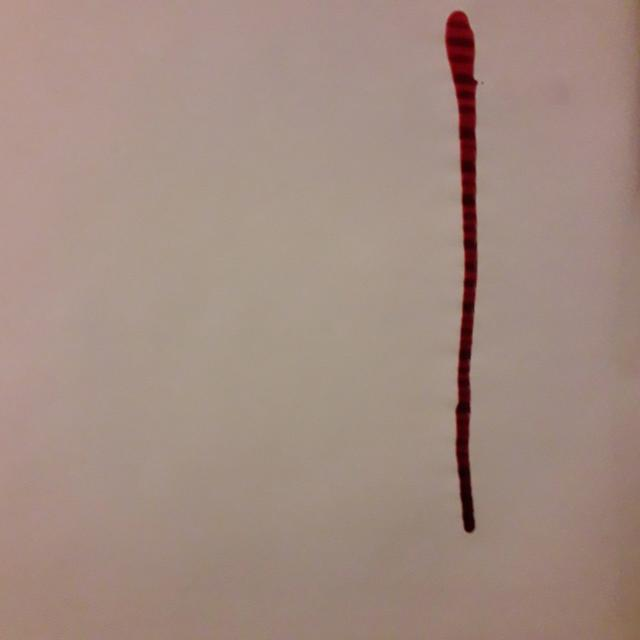wound: (390, 7, 550, 549)
